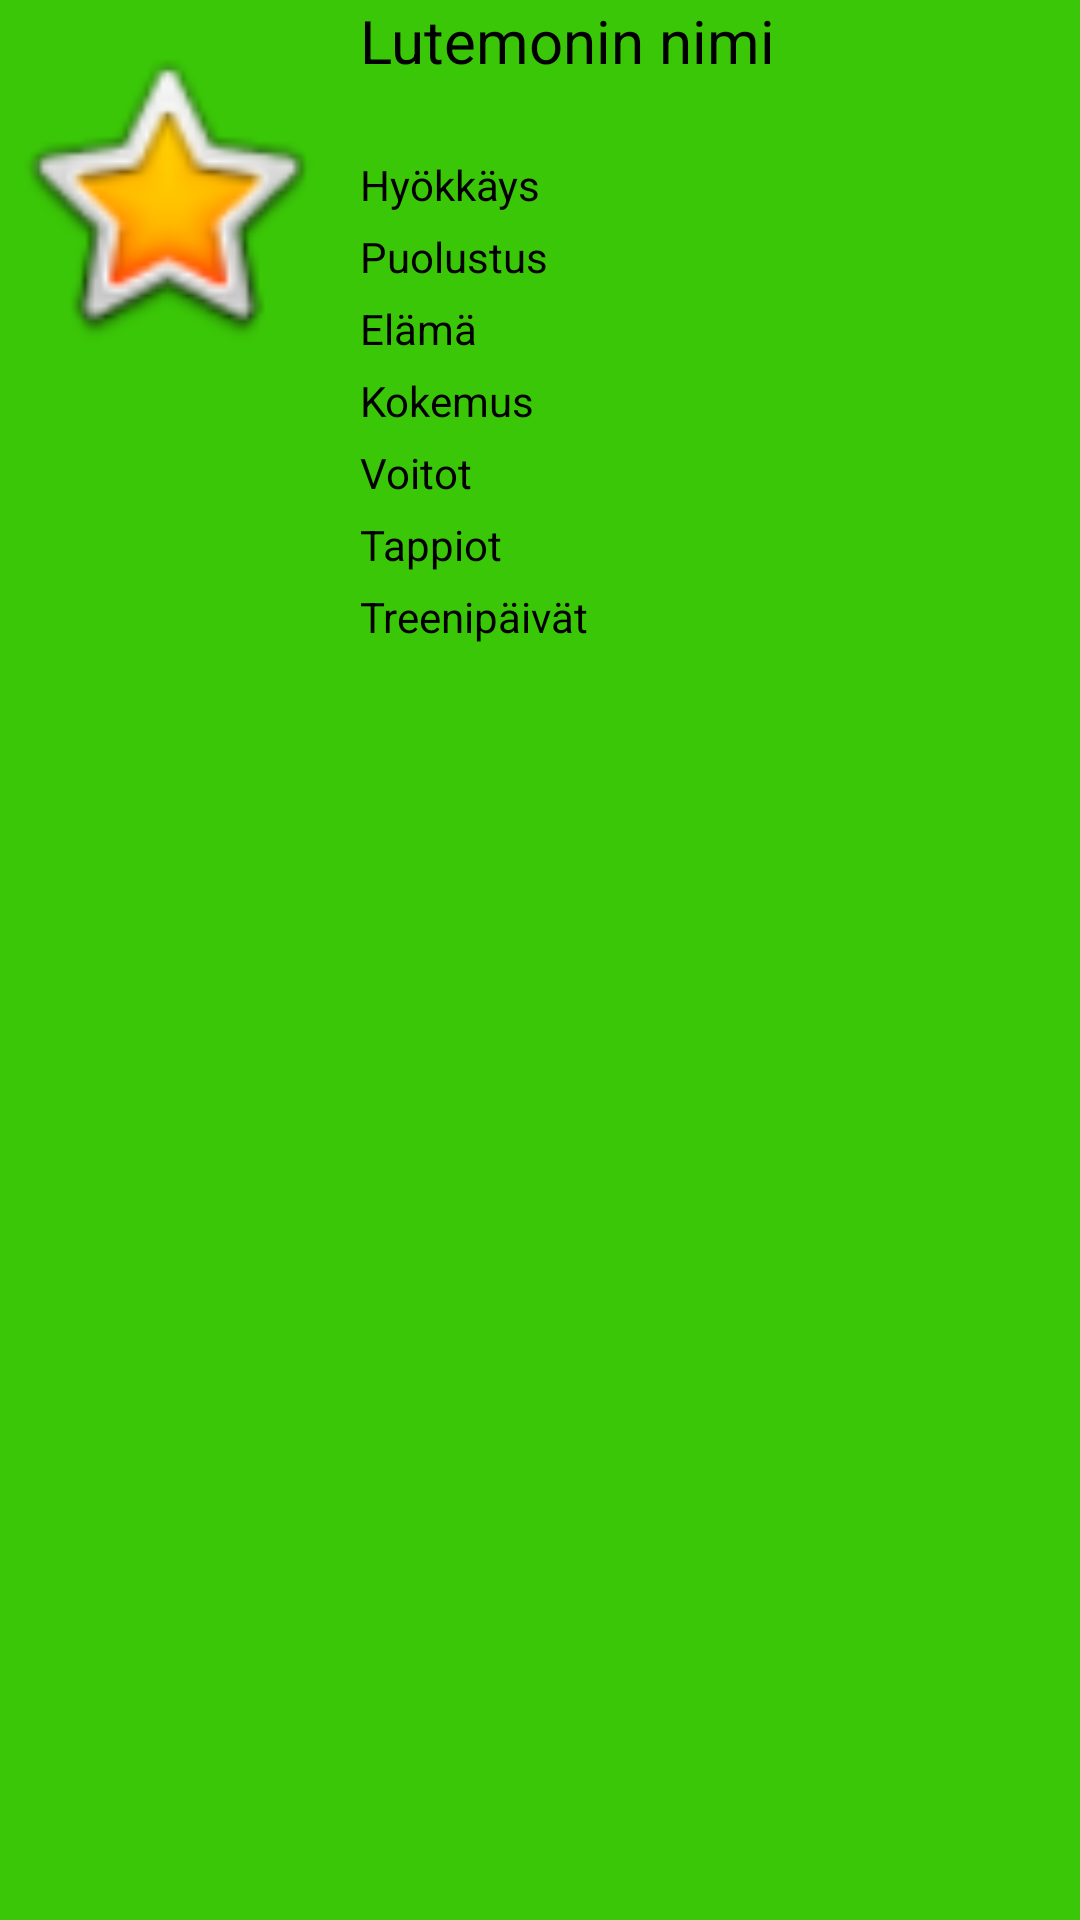

Named icons in this screenshot (1080 × 1920) and their bounding boxes, (x1, y1, x2, y2):
star on: (31, 64, 305, 331)
